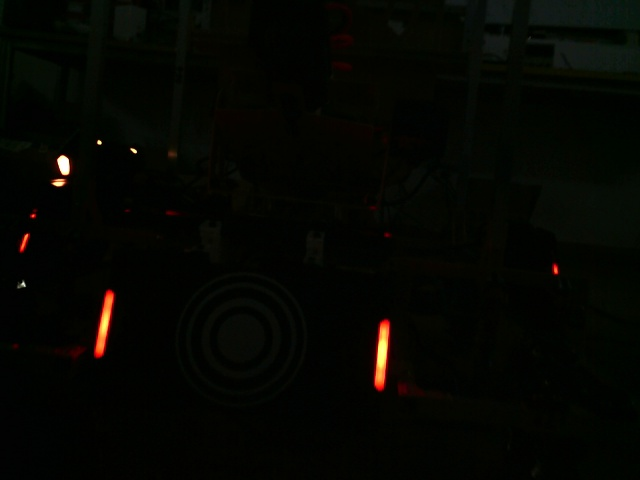lamp: (94, 283, 118, 364), (372, 318, 392, 395)
